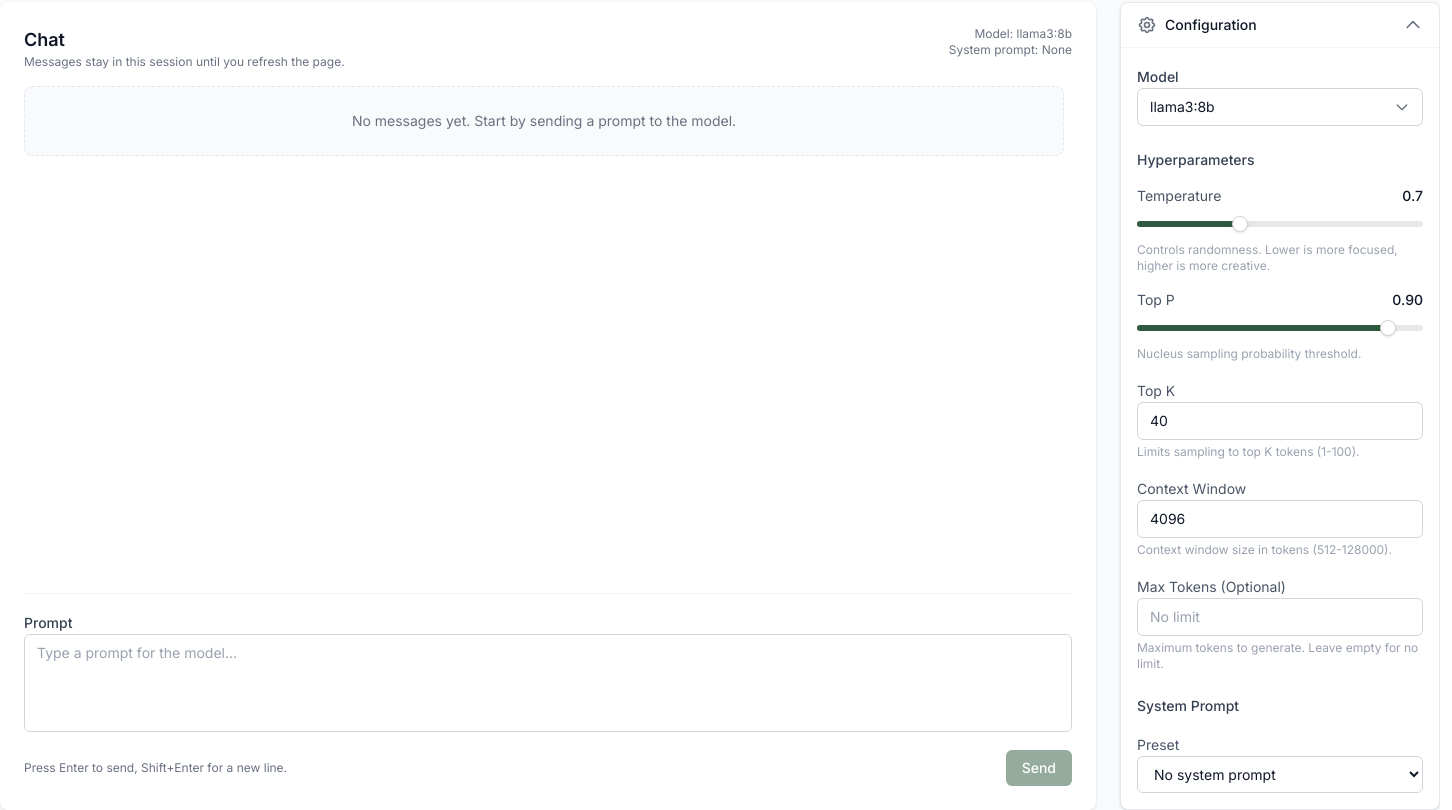
SandboxPage › shows generation error messages from the hook
(page scrolled)
Type "Hello there" into the text box with test id "sandbox-prompt-input". click: (548, 683)
box: [24, 634, 1072, 732]
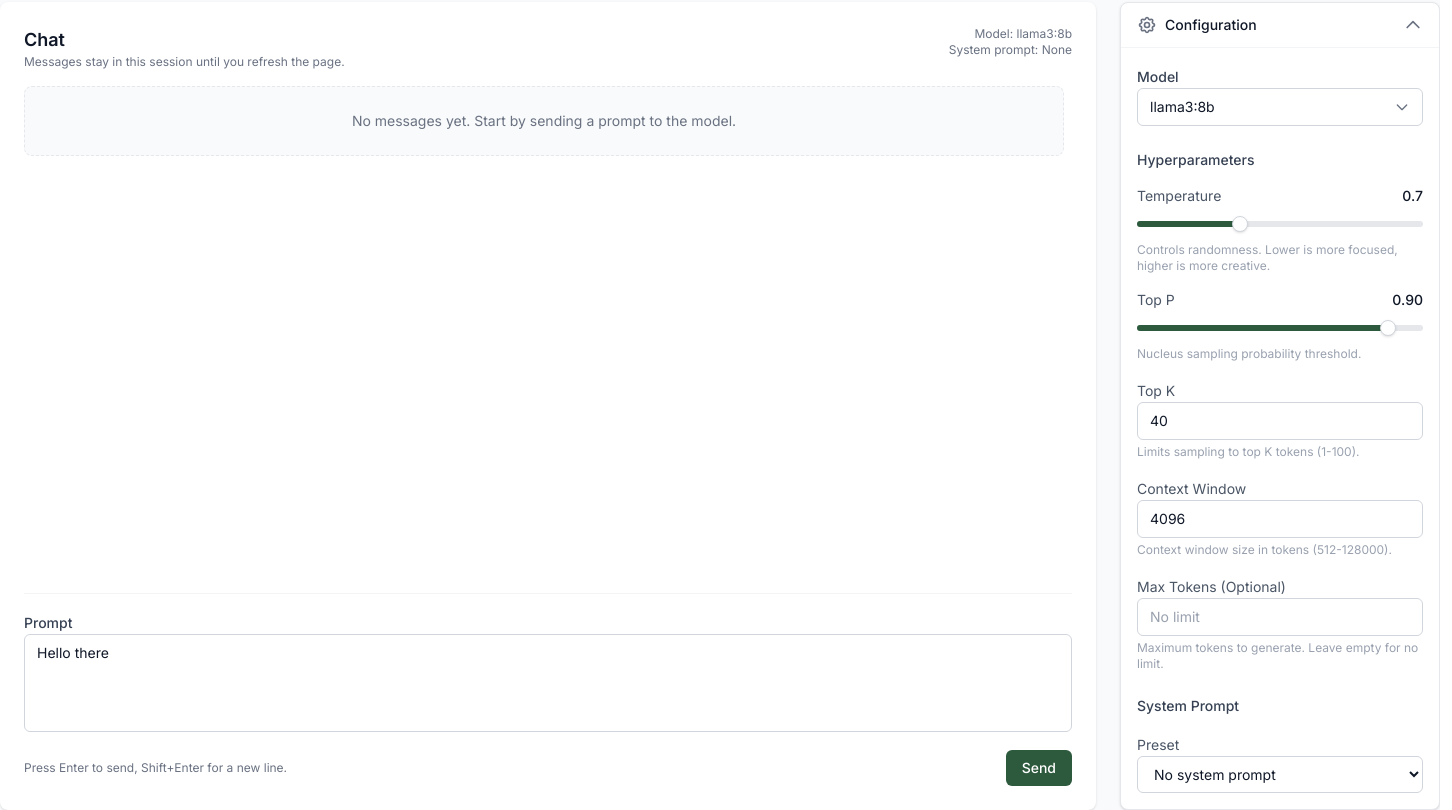
Click the button with test id "sandbox-send-button". click: (1039, 768)
box: [1006, 750, 1072, 786]
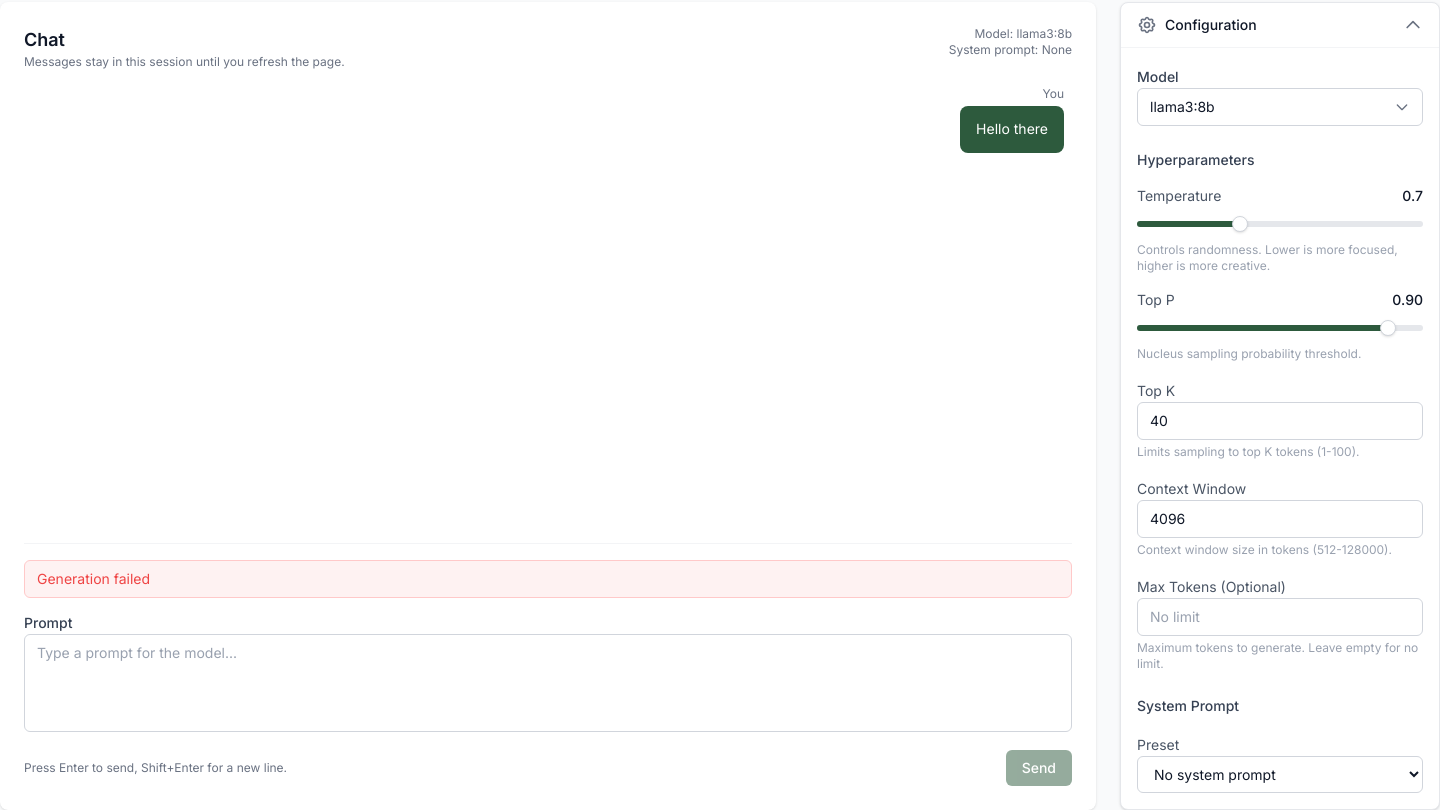
Expected: the text with test id "sandbox-error" reads "Generation failed", [37, 570, 150, 587]
